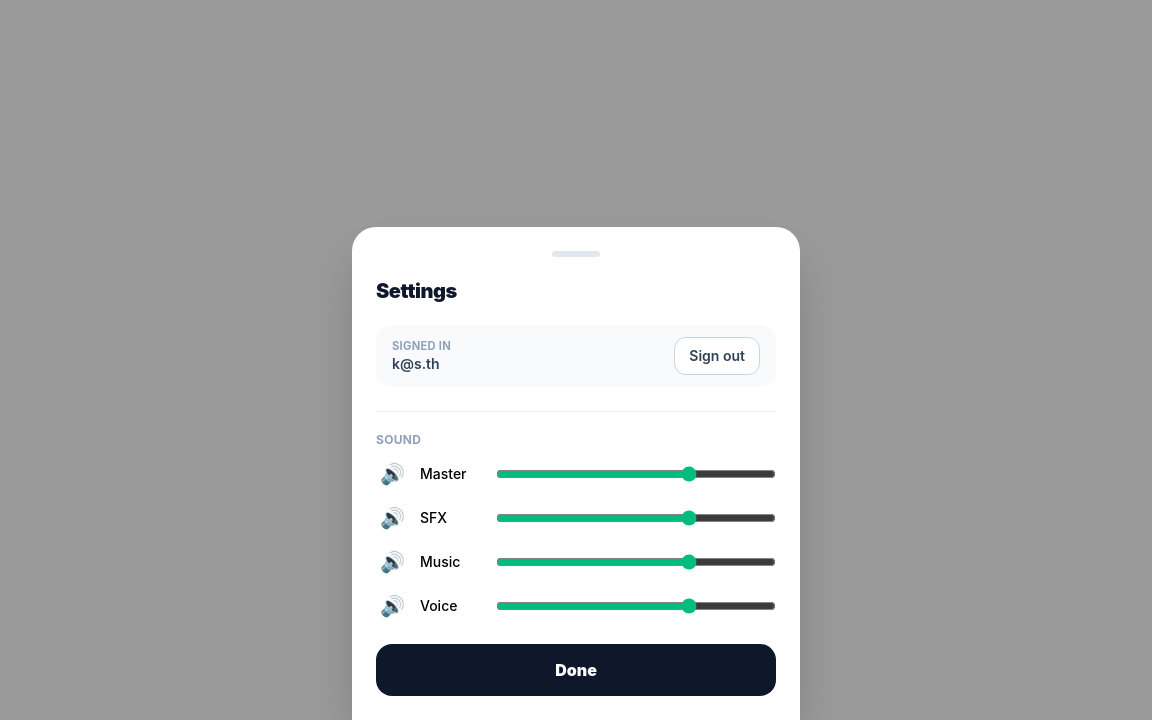
SettingsSheet — Account section › a failed sign-out shows an error and does NOT exit to menu
Click the button "Sign out".
click(717, 356)  # box [674,337,760,375]
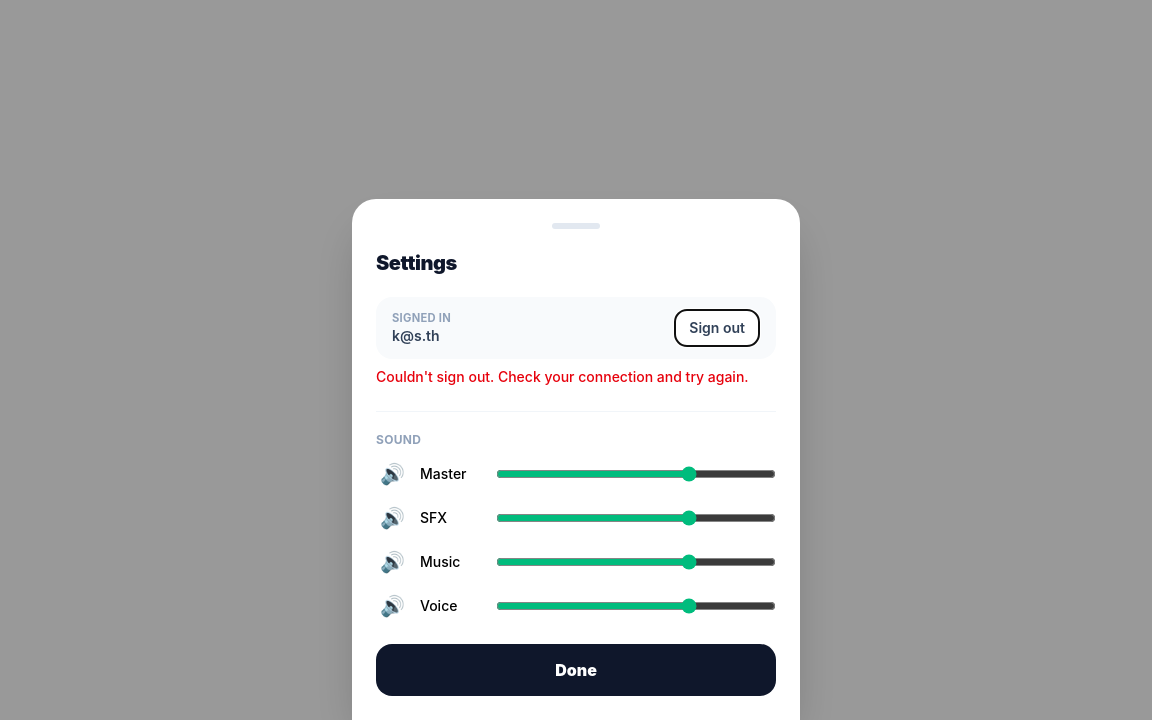
Expected: the message shows "Couldn't sign out", [376,368,749,385]
